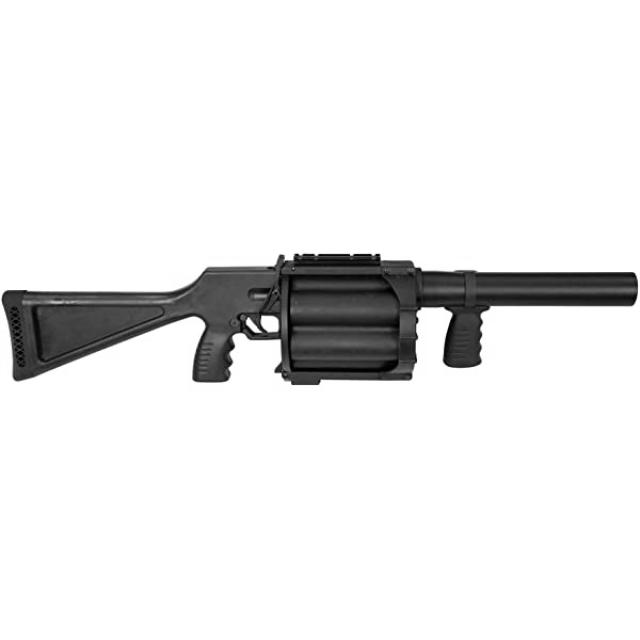Lancher: (20, 232, 640, 463)
